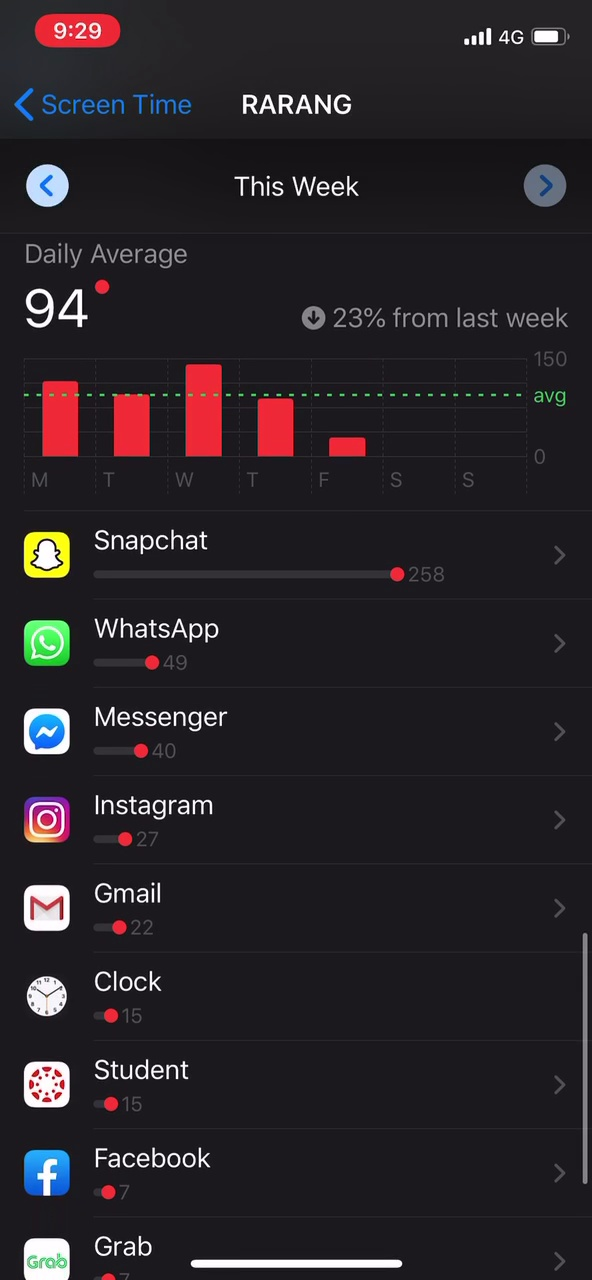not_app: (22, 517, 465, 597), (11, 1047, 279, 1128), (11, 874, 307, 941), (6, 1144, 292, 1210), (14, 785, 273, 857), (15, 694, 276, 764), (17, 955, 267, 1027), (22, 611, 276, 677)
not_over: (15, 228, 218, 352)
week: (211, 163, 370, 203)
